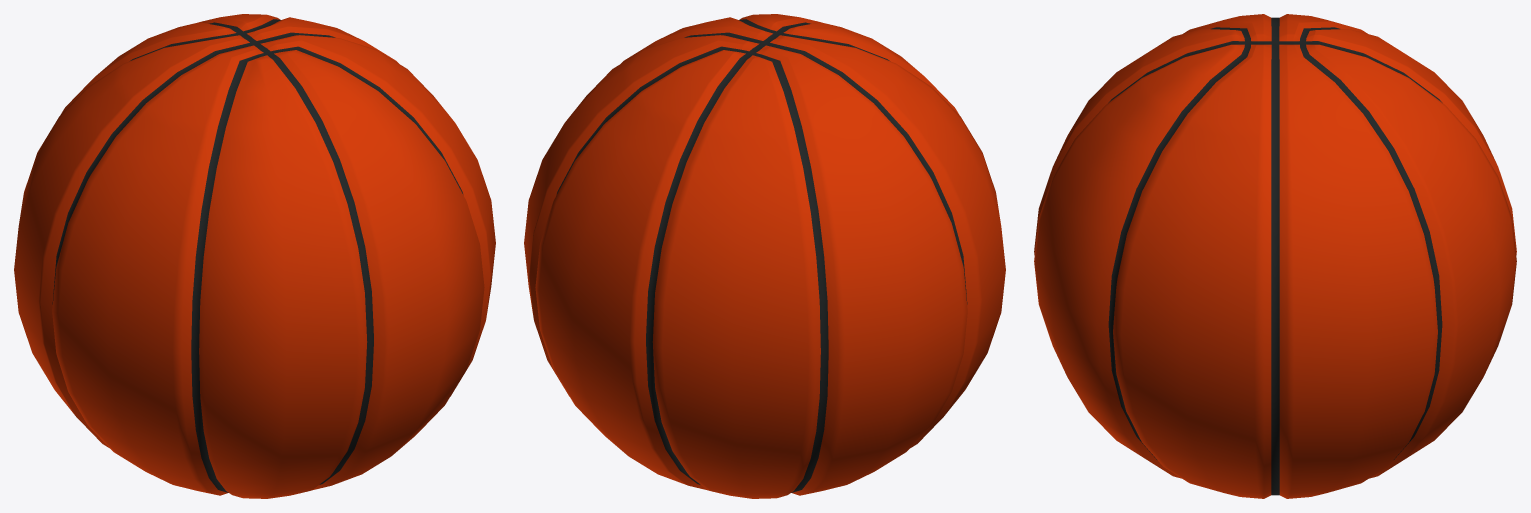
The model's file is pelotaBasquetV2.fbx.
The picture shows the model from 3 angles, left to right: view 1: azimuth 30°, elevation 25°; view 2: azimuth 150°, elevation 25°; view 3: azimuth 270°, elevation 25°; orthographic projection.
Parts seen in each view (by area): view 1: Sphere; view 2: Sphere; view 3: Sphere.
Part boxes in pixels (left/top/right/bottom): Sphere: left=14, top=14, right=495, bottom=498; Sphere: left=524, top=14, right=1005, bottom=498; Sphere: left=1034, top=14, right=1516, bottom=498.
Bounding box in the file's own units: 198 × 196 × 198.
